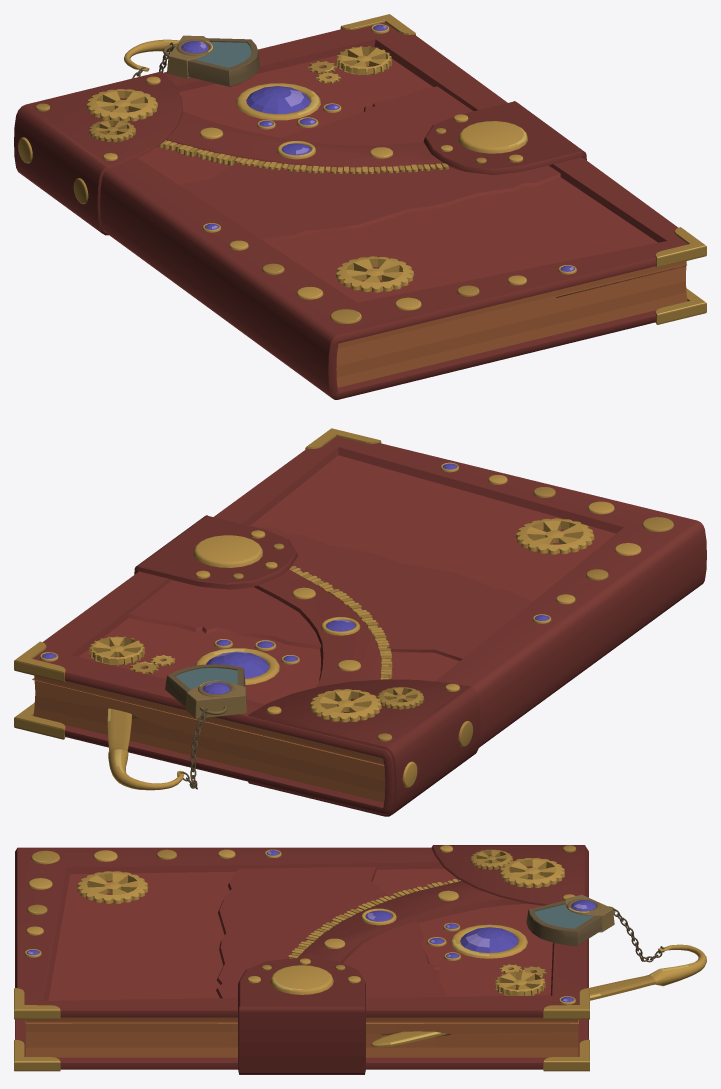
Rendered from ClosedDiary.fbx.
3 views of the same model, one above another, from view 1: azimuth 30°, elevation 25°; view 2: azimuth 150°, elevation 25°; view 3: azimuth 270°, elevation 25° (orthographic). The views are drawn at different scales.
Parts seen in each view (by area): view 1: Cube.001, BezierCurve, Cube.003, Cylinder; view 2: Cube.001, BezierCurve, Cylinder, Cube.003; view 3: Cube.001, BezierCurve, Cylinder, Cube.003.
Part boxes in pixels (<box>): Cube.001: <box>14,14,706,399</box>; BezierCurve: <box>163,35,259,86</box>; Cube.003: <box>236,83,320,120</box>; Cylinder: <box>124,39,179,78</box>; Cube.001: <box>14,428,706,816</box>; BezierCurve: <box>165,664,246,718</box>; Cylinder: <box>107,708,207,790</box>; Cube.003: <box>195,648,279,684</box>; Cube.001: <box>14,845,589,1074</box>; BezierCurve: <box>526,894,615,945</box>; Cylinder: <box>371,908,706,1047</box>; Cube.003: <box>450,924,527,958</box>.
Bounding box in the file's own units: 1297 × 299 × 2177.
